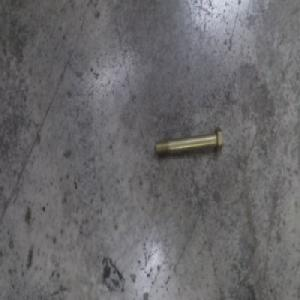Bolt: (154, 125, 223, 157)
